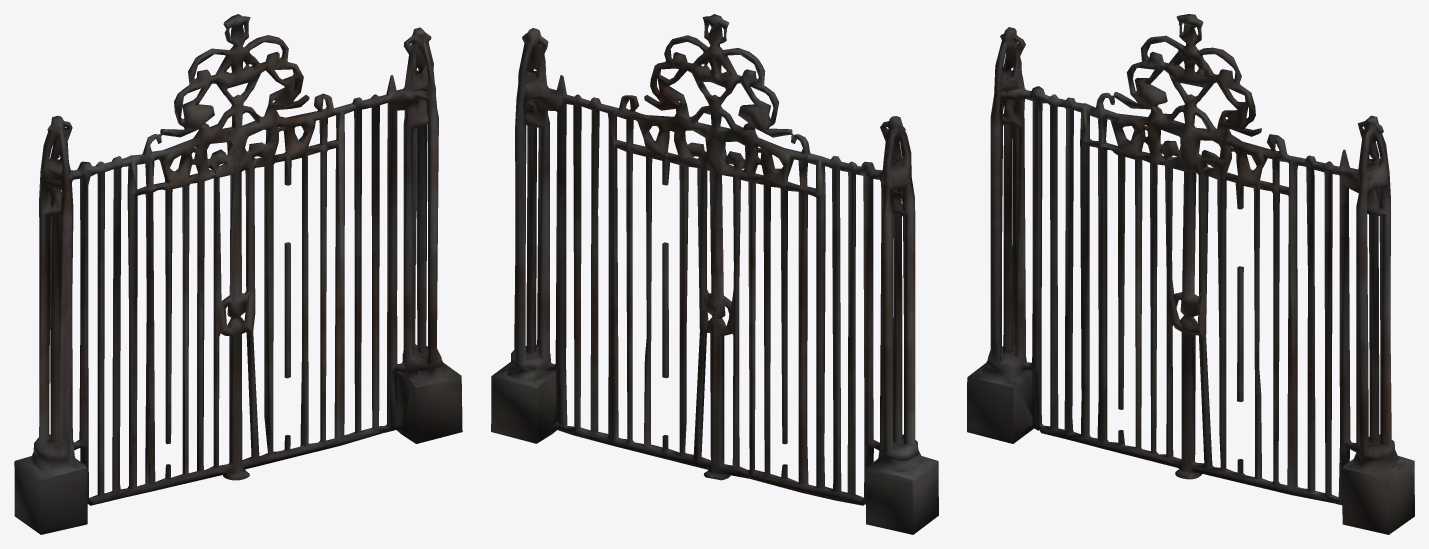
The model's file is ornate-iron-iron-gate-v001.glb.
3 views of the same model, side by side, from view 1: azimuth 30°, elevation 25°; view 2: azimuth 150°, elevation 25°; view 3: azimuth 330°, elevation 25° (orthographic).
Visible parts, largest first — view 1: ornate-iron-iron-gate; view 2: ornate-iron-iron-gate; view 3: ornate-iron-iron-gate.
Boxes of the visible parts, x1=… form: ornate-iron-iron-gate: x1=14, y1=14, x2=462, y2=534; ornate-iron-iron-gate: x1=491, y1=14, x2=938, y2=534; ornate-iron-iron-gate: x1=967, y1=14, x2=1414, y2=534.
Bounding box in the file's own units: 2.2 × 2.28 × 0.2456.
Materials: 1 (1 with a texture image).
